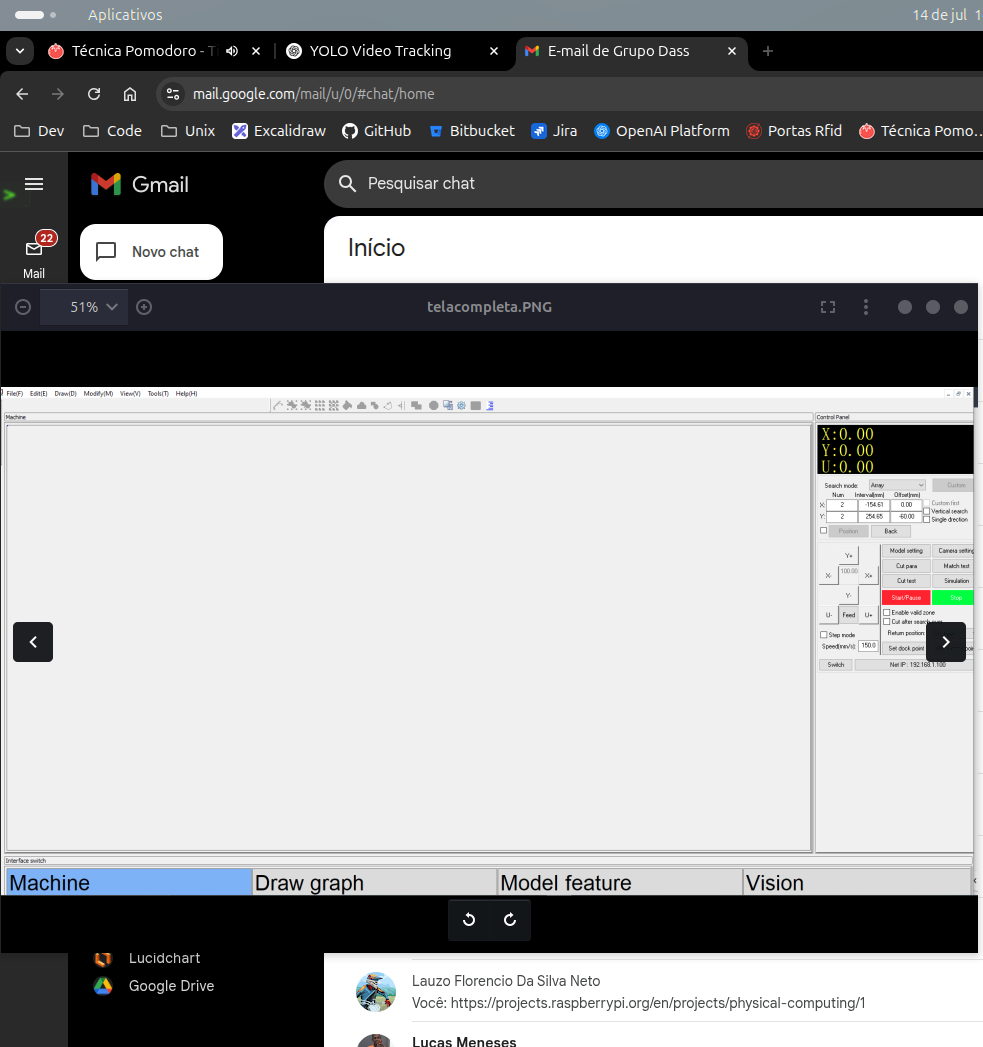start: (881, 590, 931, 605)
timer: (889, 491, 922, 523)
